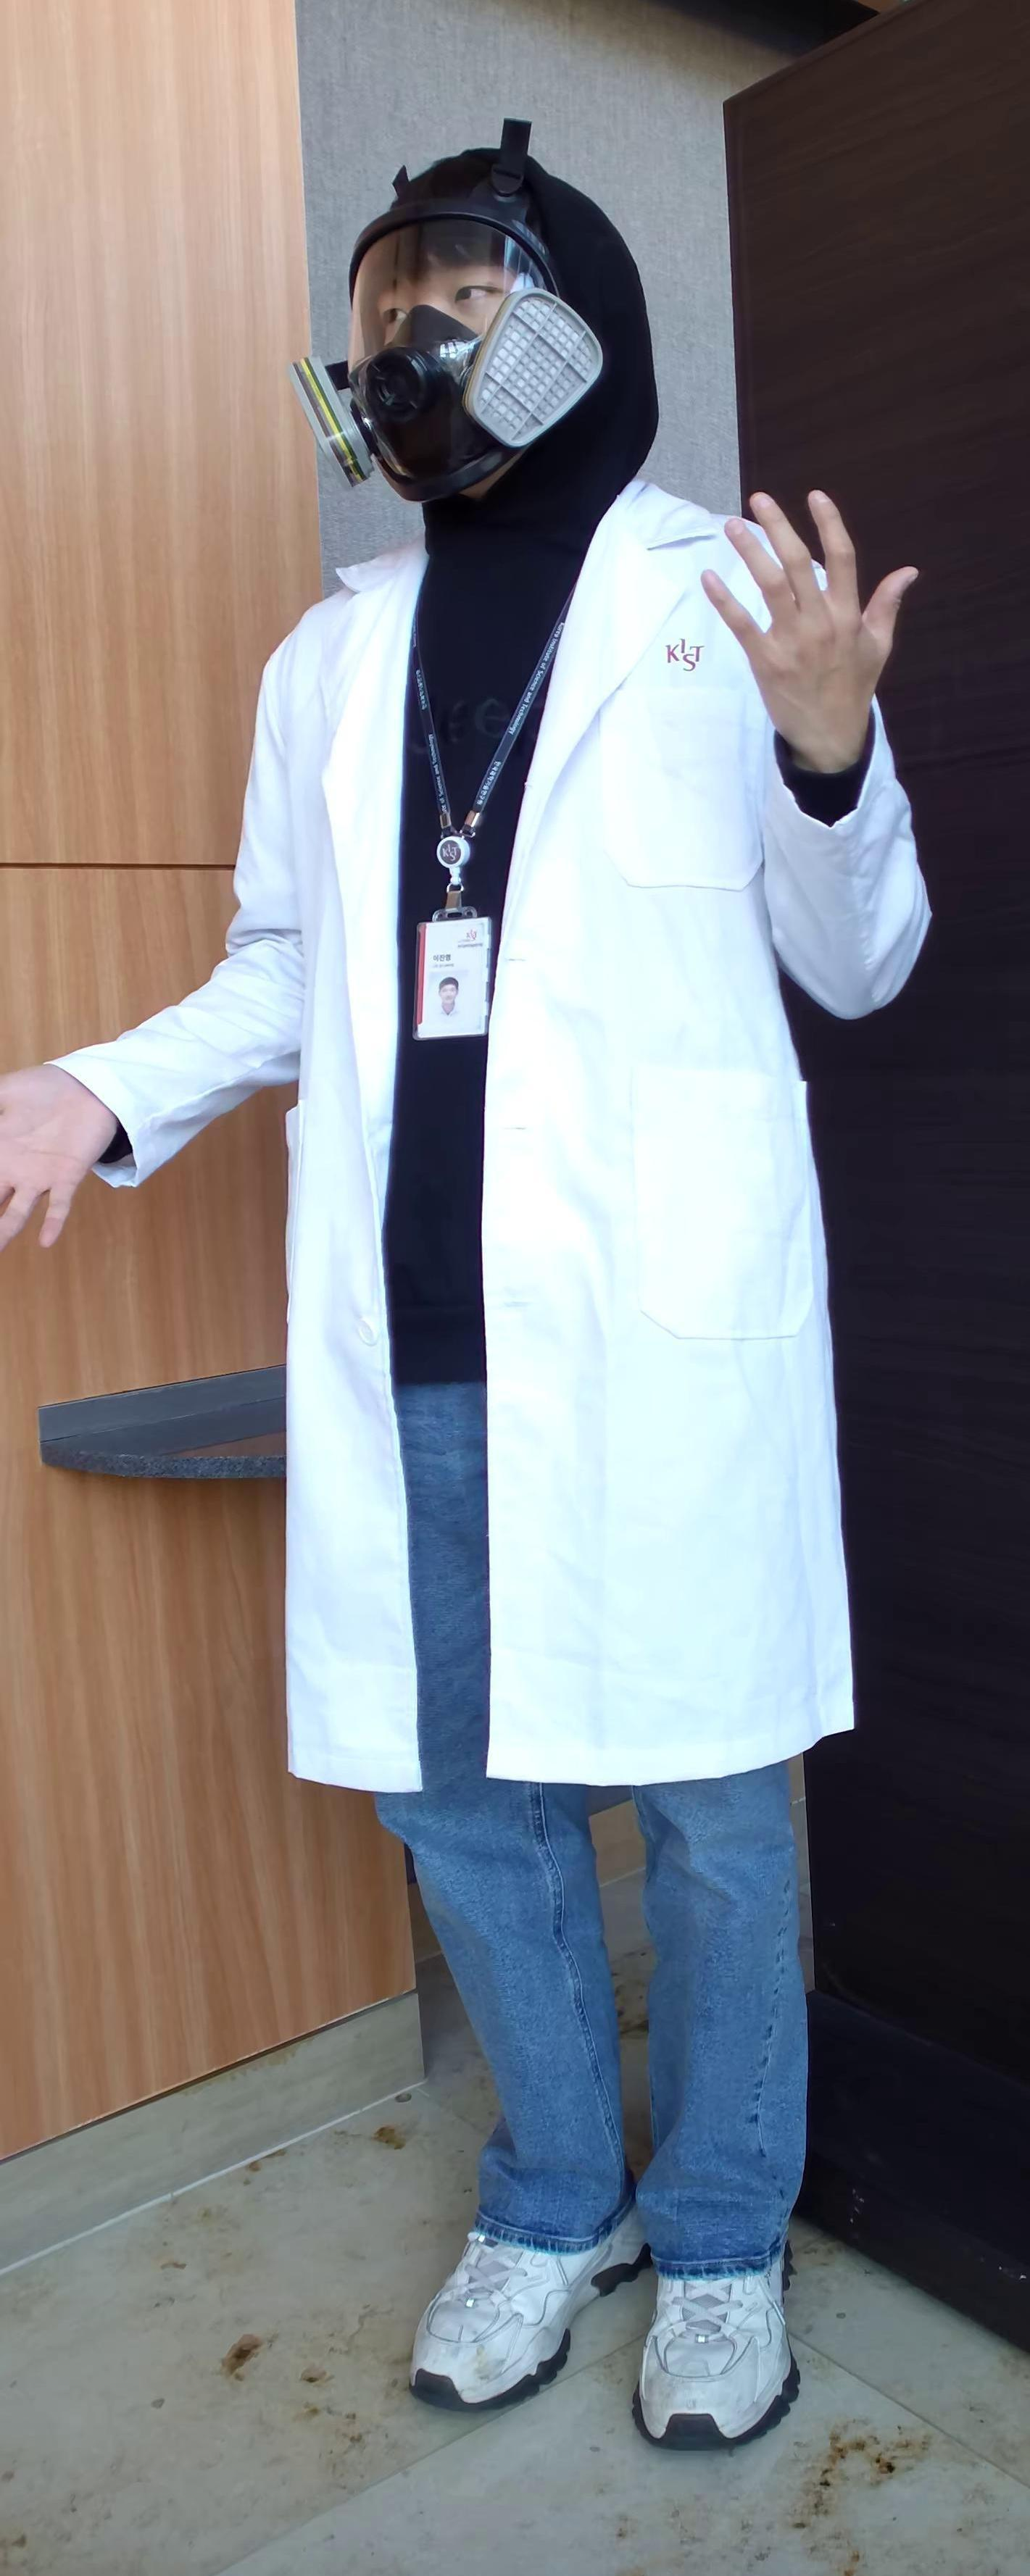lab_coat: (182, 524, 738, 1835)
